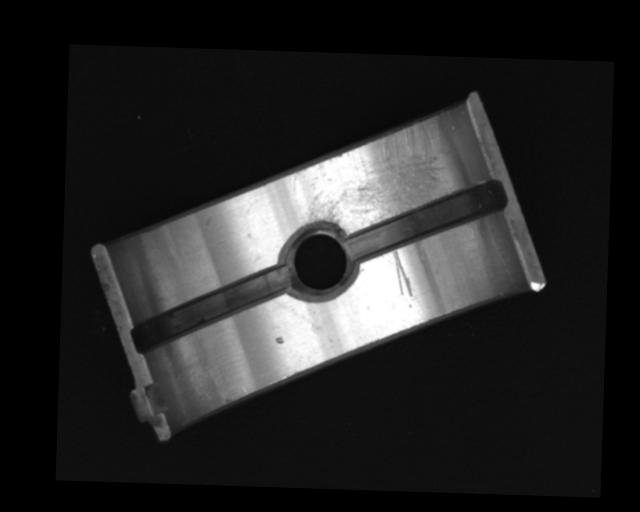bruise: (273, 334, 285, 344)
gap: (132, 260, 295, 356), (347, 175, 508, 266)
hole: (279, 222, 361, 299)
nick: (392, 249, 414, 298)
scratch: (298, 110, 444, 233)
